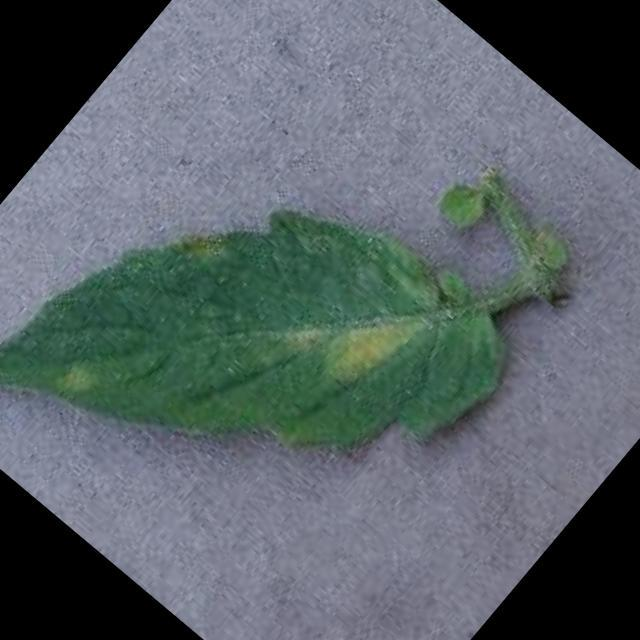Tomato mold leaf: (0, 59, 538, 640)
